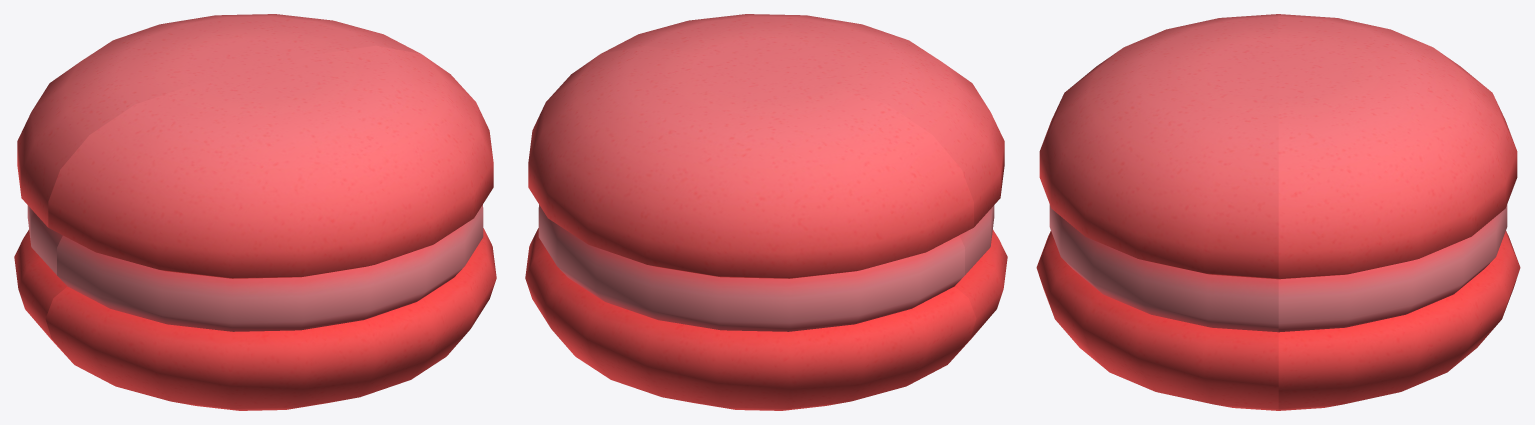
The model's file is Macaron.fbx.
3 renders of one model, left to right at view 1: azimuth 30°, elevation 25°; view 2: azimuth 150°, elevation 25°; view 3: azimuth 270°, elevation 25°, orthographic.
Parts seen in each view (by area): view 1: Macaron_1; view 2: Macaron_1; view 3: Macaron_1.
Part boxes in pixels (x1,y1,x2,y2): Macaron_1: (14,14,496,410); Macaron_1: (525,14,1007,410); Macaron_1: (1036,14,1520,410).
Size of the model in its own units: 28.52 by 18.66 by 28.52.
